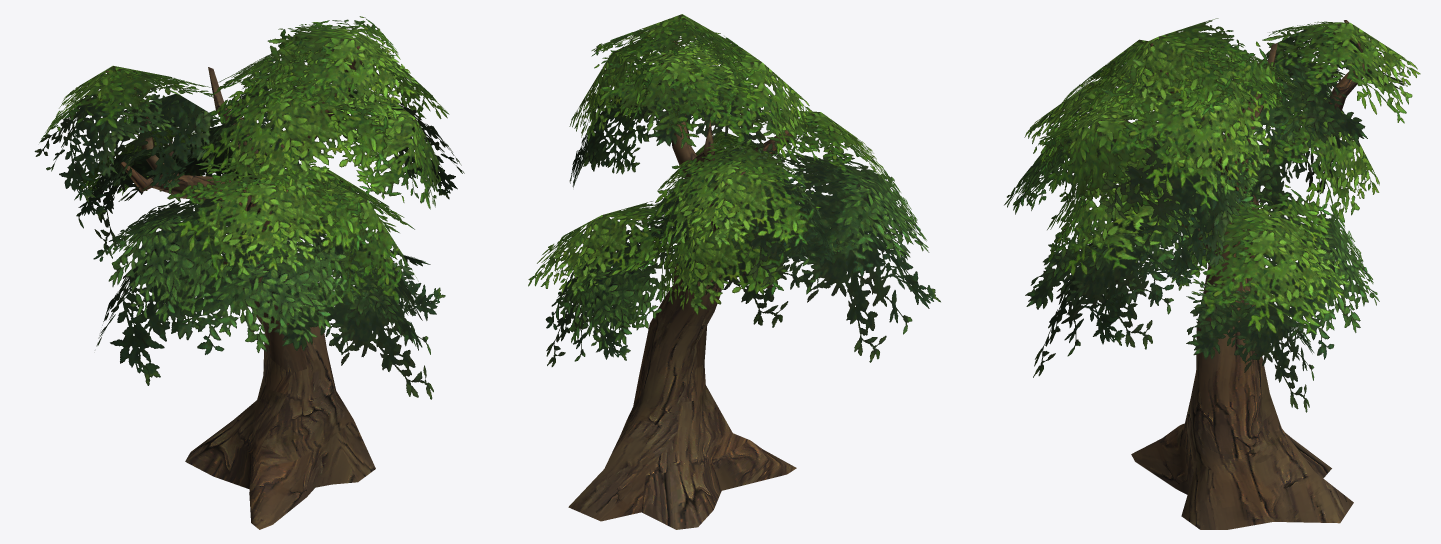
File: 2_Plant_Shu_01.FBX
3 renders of one model, left to right at view 1: azimuth 30°, elevation 25°; view 2: azimuth 150°, elevation 25°; view 3: azimuth 270°, elevation 25°, orthographic. The views are drawn at different scales.
Visible parts, largest first — view 1: 2_YiZhan_Shu_01; view 2: 2_YiZhan_Shu_01; view 3: 2_YiZhan_Shu_01.
Boxes of the visible parts, x1,y1,x2,y2 form: 2_YiZhan_Shu_01: (34, 16, 464, 529); 2_YiZhan_Shu_01: (528, 14, 940, 529); 2_YiZhan_Shu_01: (1004, 18, 1420, 529).
Bounding box in the file's own units: 612 × 684 × 571.
2 materials, 2 textured.
